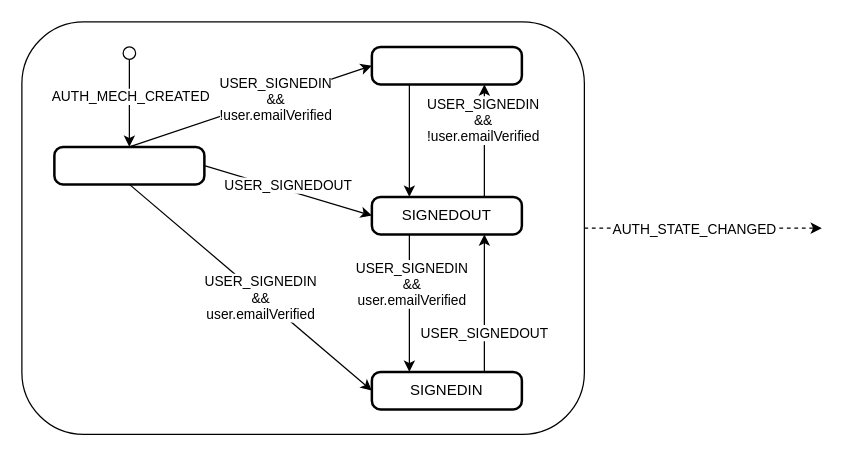
Some shapes in this 854 by 456 pixel diagram are drawn without their labels. Here are the shapes that lost their labels. From the top down, the centre of each, then its label:
(x=446, y=65): PENDING
(x=128, y=165): UNSOLVED
